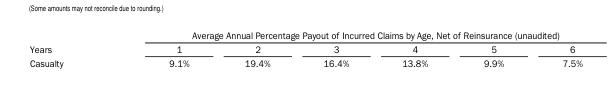table: (28, 29, 581, 67)
table column: (115, 29, 216, 67), (28, 29, 115, 67), (374, 29, 455, 67), (216, 29, 296, 67), (296, 29, 374, 67), (455, 29, 532, 67), (532, 29, 581, 67)
table column header: (28, 29, 581, 55)
table row: (28, 41, 581, 55), (28, 29, 581, 41), (28, 55, 581, 67)
table spanning cell: (115, 29, 581, 41), (28, 29, 115, 55)
